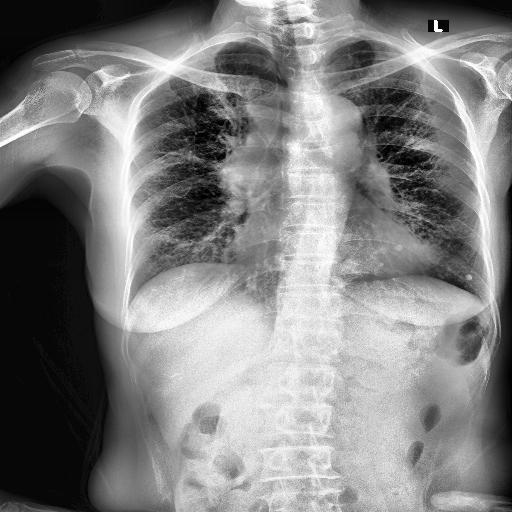0- Aortic enlargement: (309, 93, 363, 149), (314, 96, 366, 146), (313, 93, 364, 140)
13- Pulmonary fibrosis: (408, 242, 440, 268)
3- Cardiomegaly: (234, 219, 426, 277), (230, 230, 434, 284)
5- ILD: (135, 197, 231, 270)
7- Lung Opacity: (221, 90, 281, 218)
8- Nodule-Mass: (408, 242, 440, 268), (463, 273, 474, 282), (466, 272, 474, 282)
9- Other lesion: (252, 88, 278, 224), (408, 242, 440, 268)
